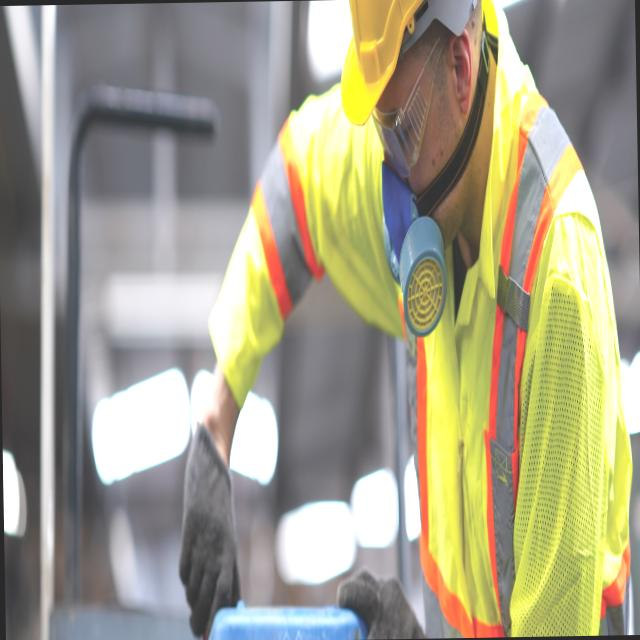goggles: (369, 36, 446, 182)
helmet: (337, 0, 484, 129)
vest: (201, 72, 636, 640)
